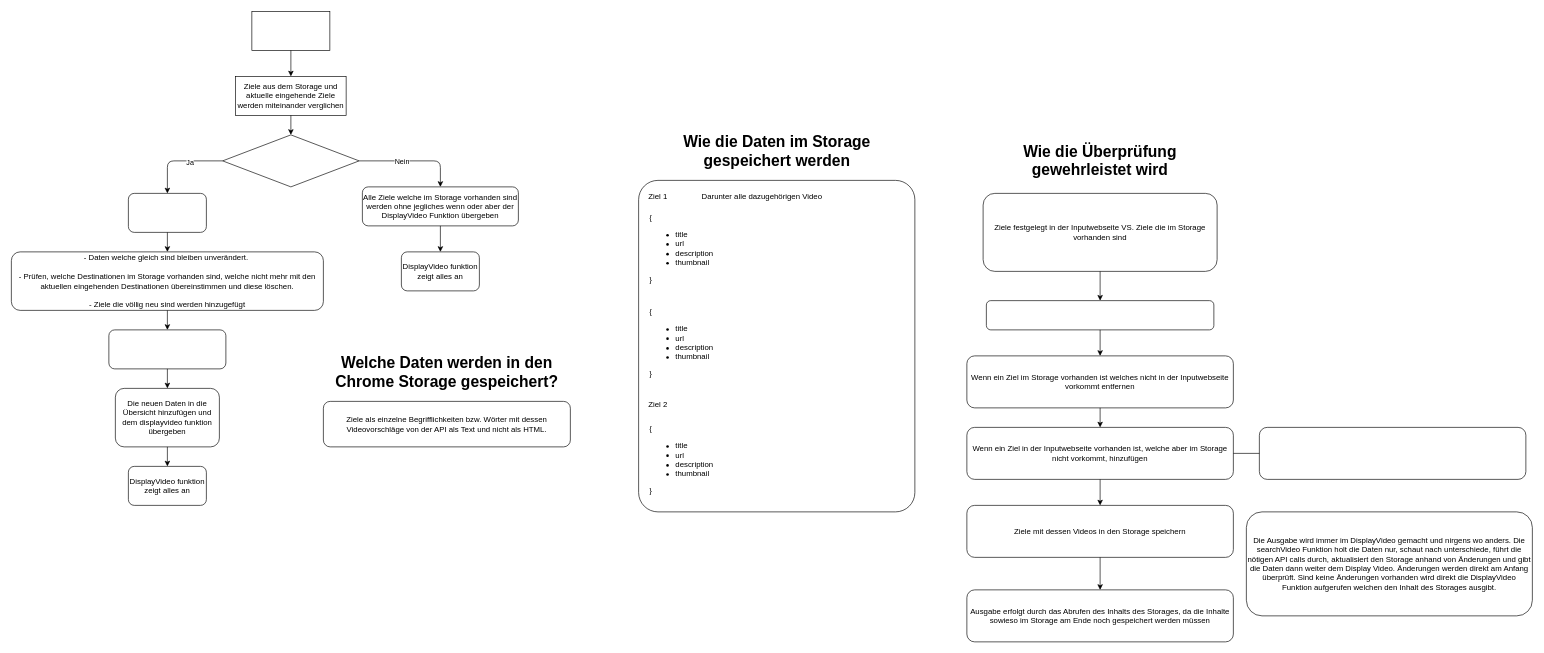
Image size: 1544x653. Some labels were removed from this diagram. Each missing label, with the box of its shape:
API Calls durchführen mit Zielen welche völlig neu sind: (108, 329, 226, 369)
Entsprechend API Call machen pro neuem Ziel: (1259, 427, 1526, 479)
Gibt es Unterschiede?: (222, 134, 359, 187)
Unterschiede erkennen: (986, 300, 1214, 330)
Welche Daten sind neu beziehungsweise wurden entfernt?: (128, 193, 206, 232)
Ziele werden geholt: (251, 11, 330, 50)
